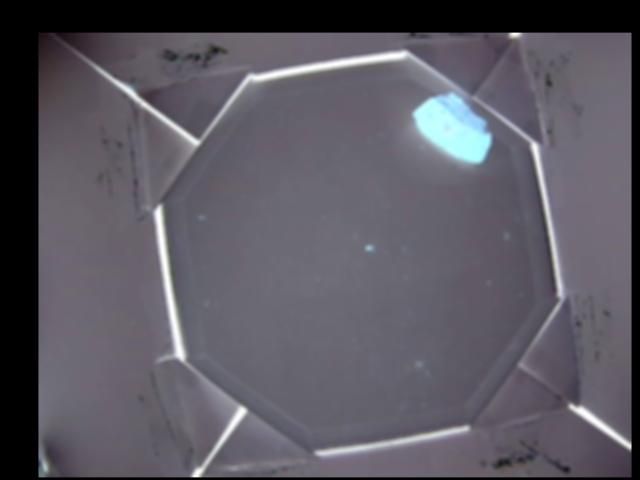Brisk: (409, 88, 494, 166)
